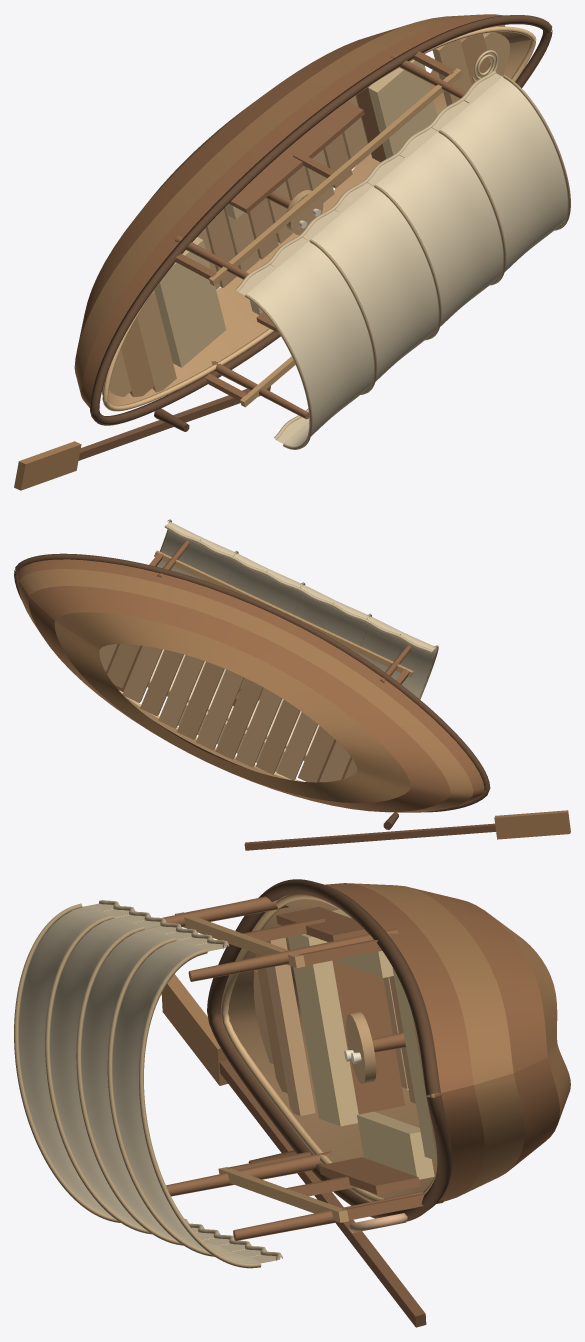
File: boat.glb
3 views of the same model, one above another, from view 1: azimuth 30°, elevation 25°; view 2: azimuth 150°, elevation 25°; view 3: azimuth 270°, elevation 25° (orthographic). The views are drawn at different scales.
Visible parts, largest first — view 1: boat (×3); view 2: boat (×3); view 3: boat (×3).
Part boxes in pixels (x1=…): boat (×3): x1=14, y1=14, x2=570, y2=490; boat (×3): x1=14, y1=519, x2=570, y2=850; boat (×3): x1=14, y1=879, x2=570, y2=1327.
Size of the model in its own units: 0.3966 by 0.1992 by 0.1987.
